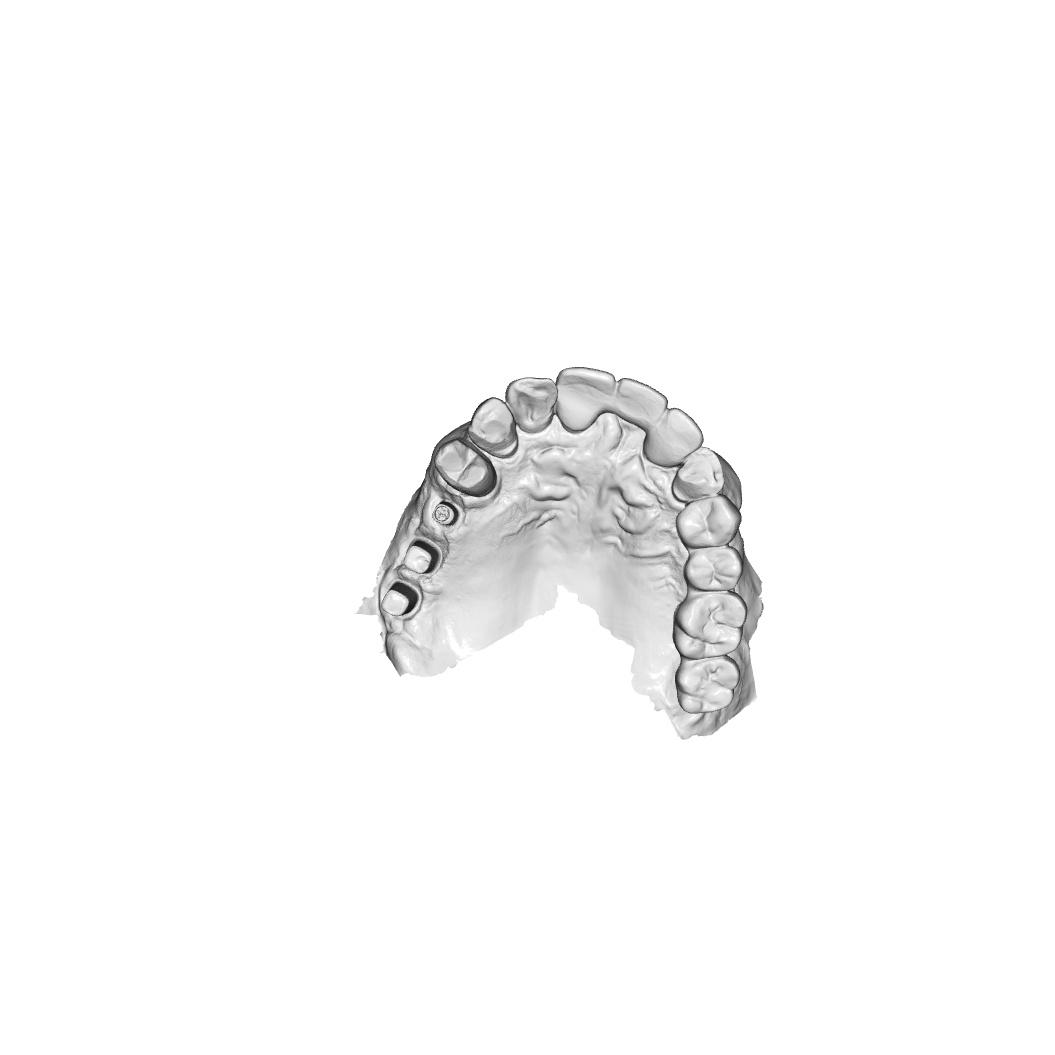abutment: (378, 577, 424, 621), (402, 536, 444, 577)
canine: (467, 396, 520, 460), (672, 445, 728, 504)
implant: (432, 500, 460, 527)
incisor: (554, 365, 615, 434), (641, 406, 705, 469), (504, 375, 558, 436), (615, 376, 669, 434)
molar: (671, 591, 748, 660), (674, 654, 740, 716)
premolar: (433, 437, 499, 499), (675, 493, 742, 549), (681, 545, 744, 592)
